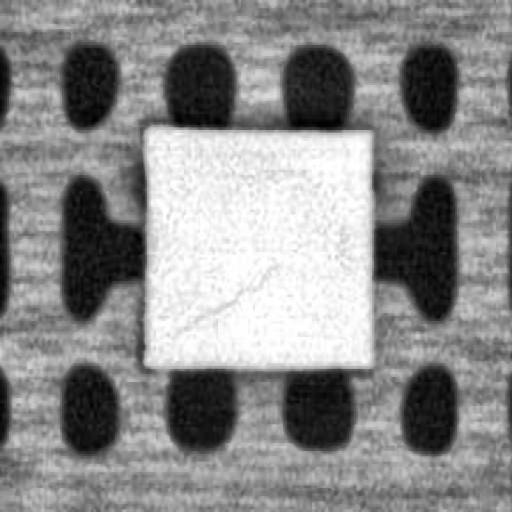DIE_CRACK: (179, 254, 283, 324)
